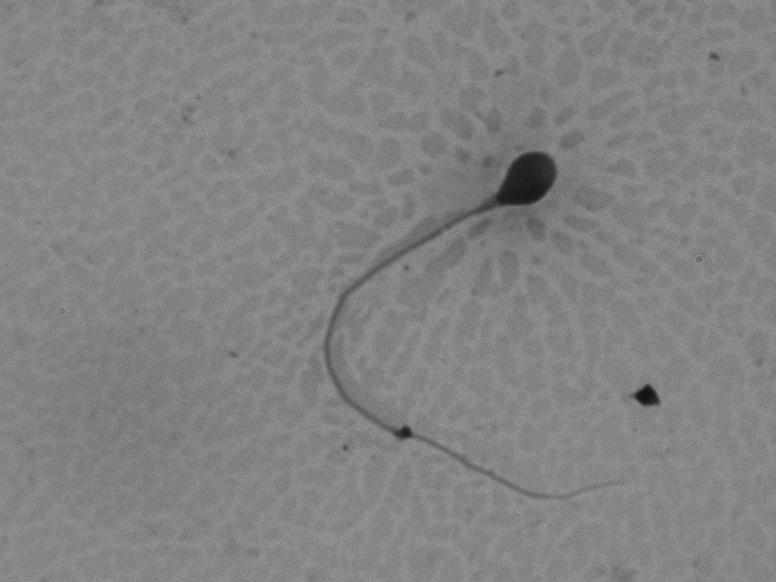Abnormal: (296, 125, 716, 525)
